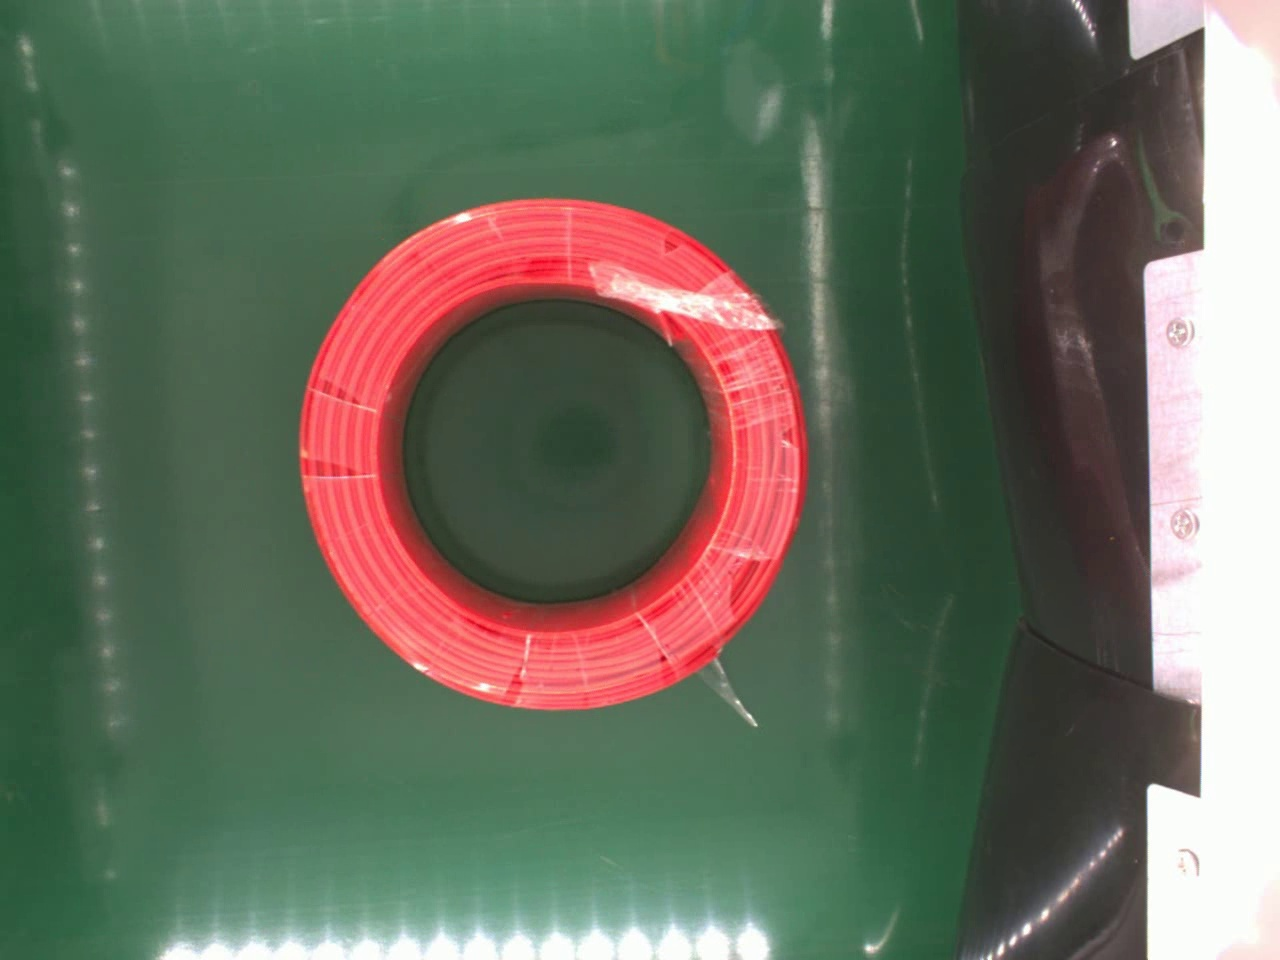red: (294, 192, 815, 711)
